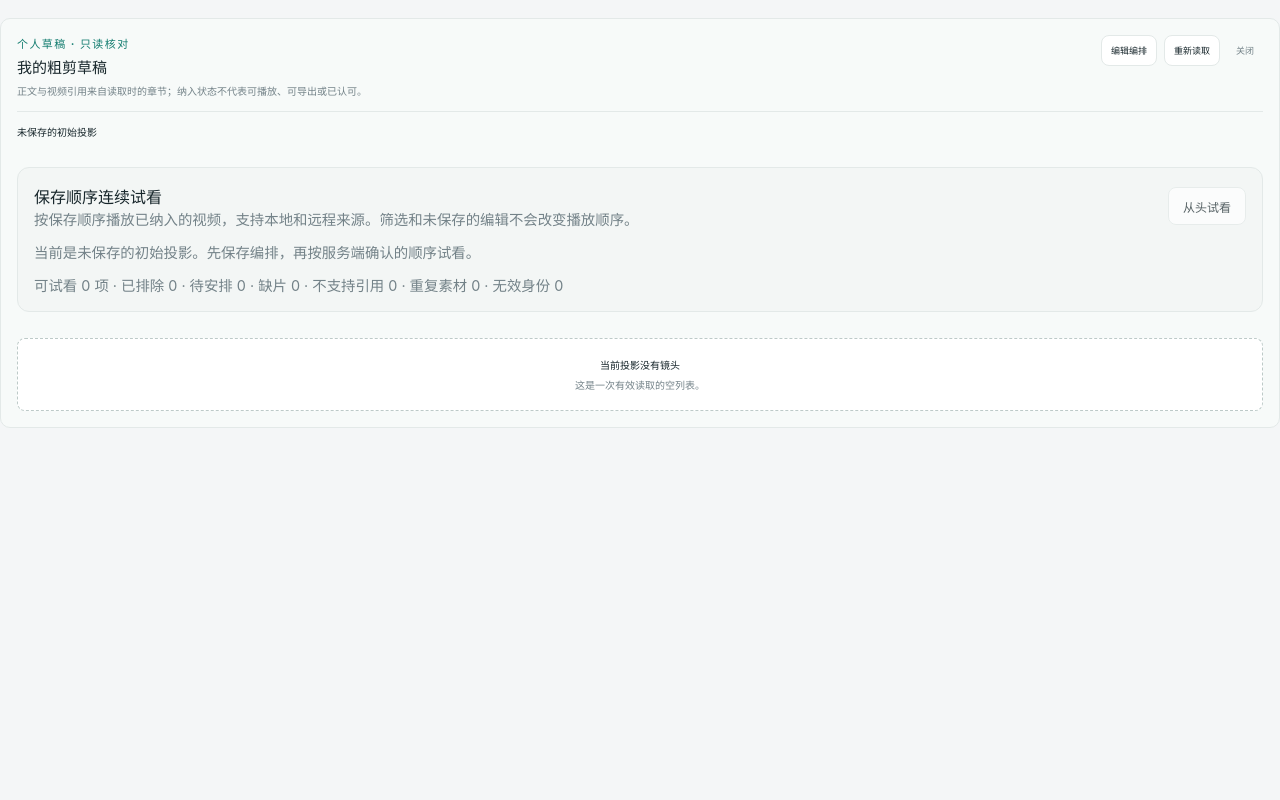
Test: personal rough-cut editing panel › can explicitly save a valid empty chapter without loading asset metadata
Expected: the text "当前投影没有镜头" is shown, [600,358,680,370]
Click the button "编辑编排" at (1129, 50), box [1101,35,1157,66]
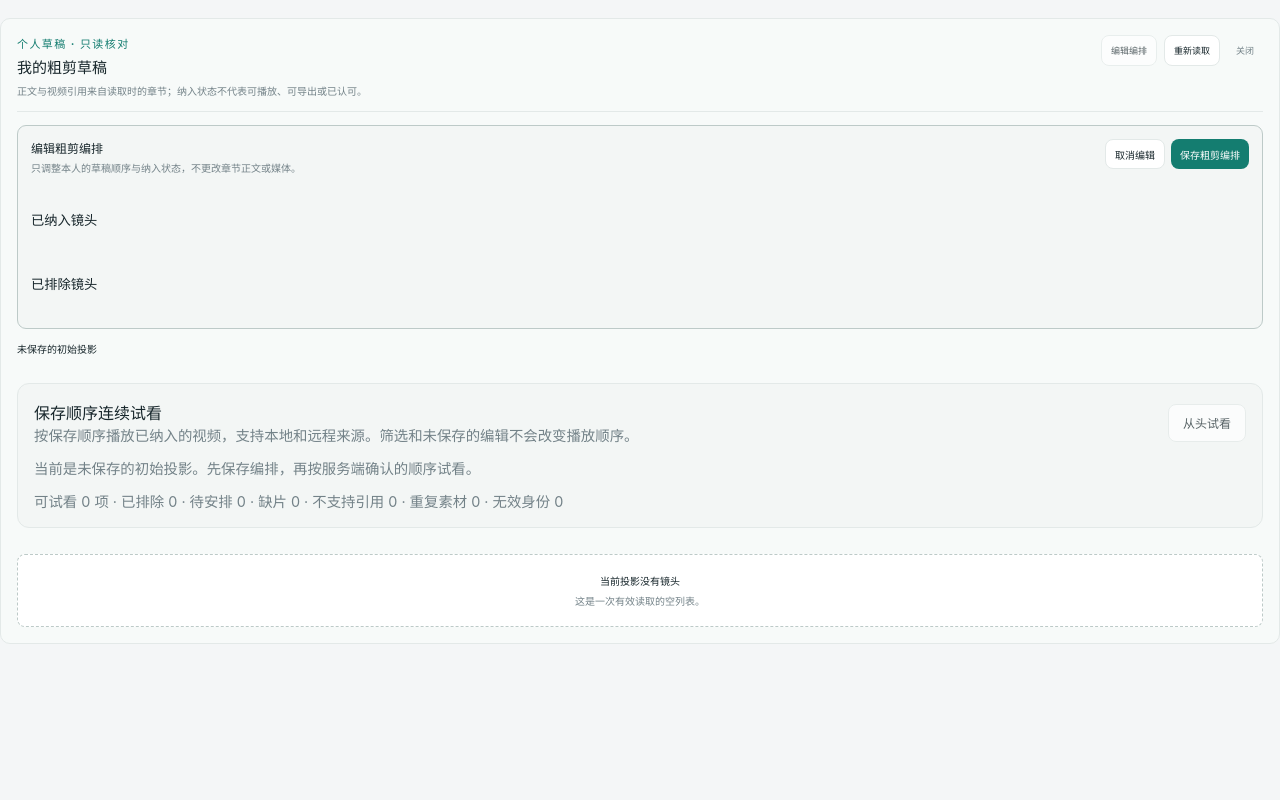
Now the button "保存粗剪编排" is enabled
Click the button "保存粗剪编排" at (1210, 154), box [1171,139,1249,169]
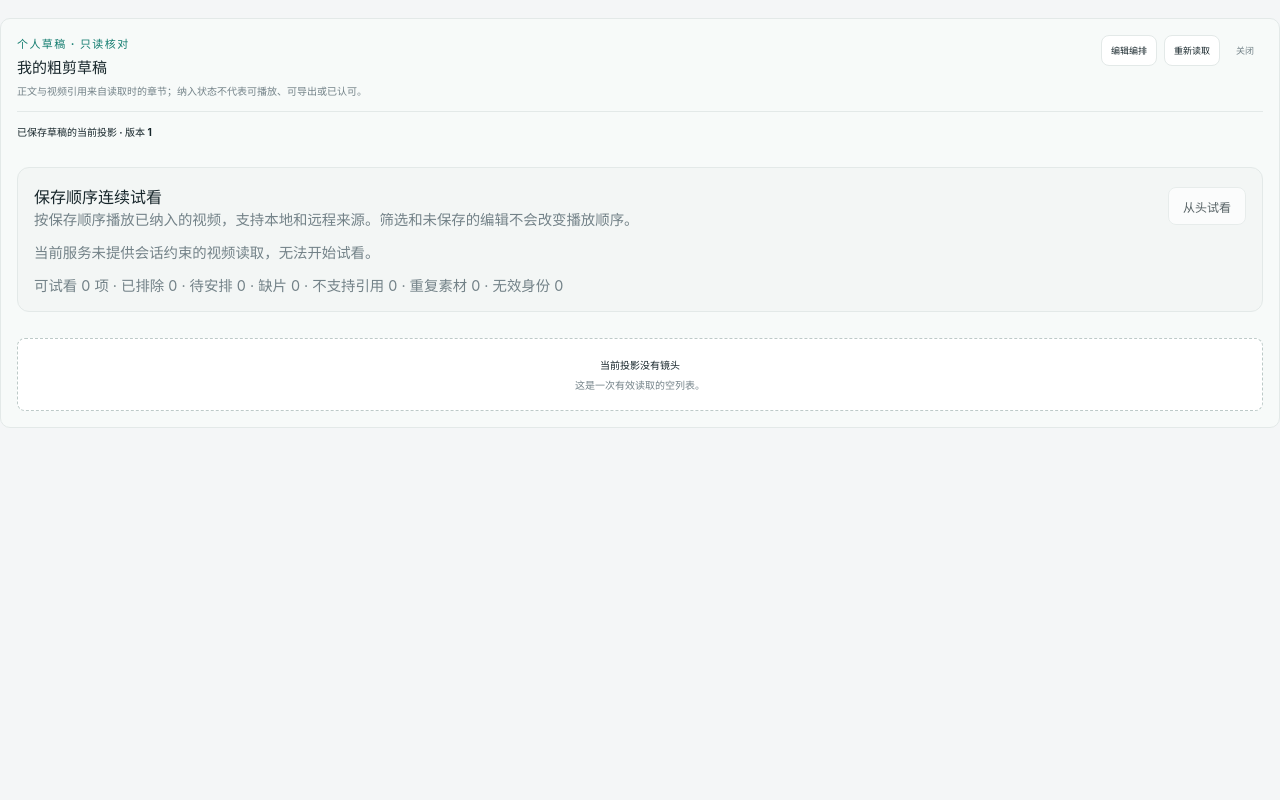
Now the text "已保存草稿的当前投影 · 版本 1" is shown, box [17,125,152,140]
